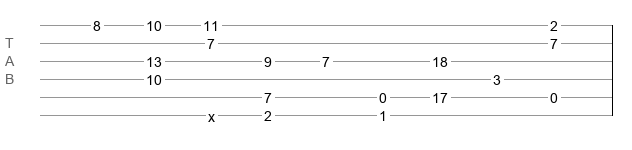0: (379, 90, 387, 100), (550, 90, 558, 100)
1: (379, 108, 387, 118)
10: (146, 18, 162, 28), (146, 72, 162, 82)
11: (203, 18, 219, 28)
13: (146, 54, 162, 64)
17: (432, 90, 448, 100)
18: (432, 54, 448, 64)
2: (264, 108, 272, 118), (550, 18, 558, 28)
3: (493, 72, 501, 82)
7: (207, 36, 215, 46), (264, 90, 272, 100), (322, 54, 330, 64), (550, 36, 558, 46)
8: (93, 18, 101, 28)
9: (264, 54, 272, 64)
x: (208, 109, 215, 117)
